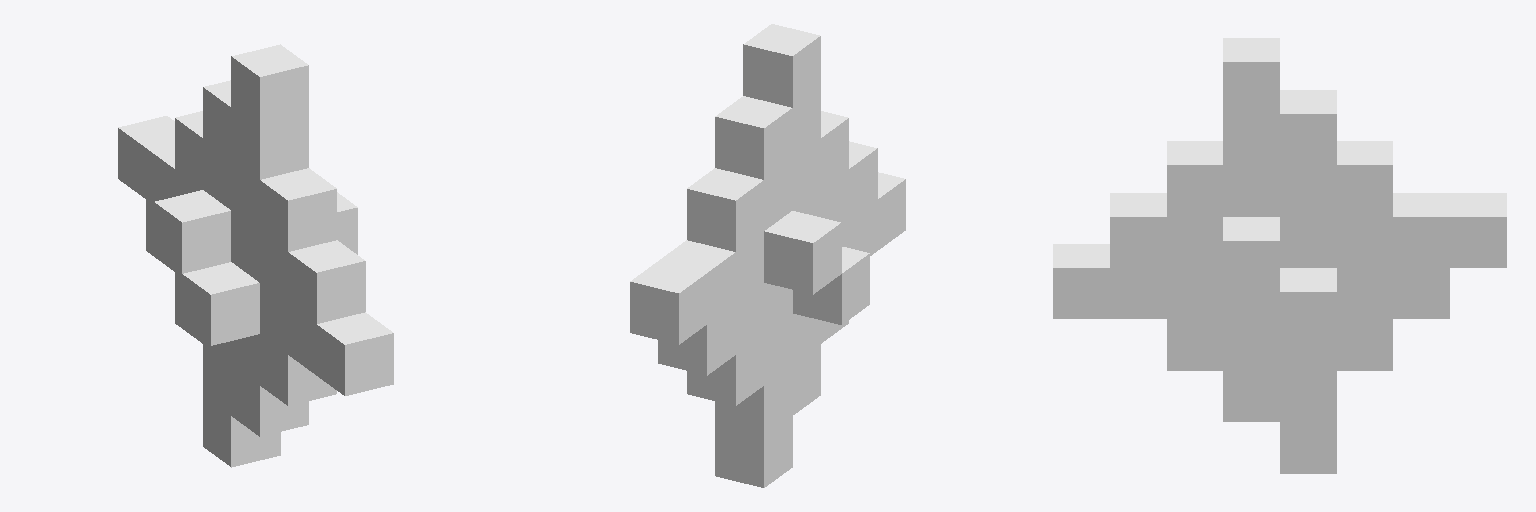
Rendered from Whitestar.obj.
The picture shows the model from 3 angles: view 1: azimuth 30°, elevation 25°; view 2: azimuth 150°, elevation 25°; view 3: azimuth 270°, elevation 25°; orthographic projection.
Visible parts, largest first — view 1: object 1; view 2: object 1; view 3: object 1.
Part boxes in pixels (x1,y1,x2,y2): object 1: (118, 44, 393, 467); object 1: (630, 24, 905, 487); object 1: (1053, 38, 1506, 473).
Bounding box in the file's own units: 0.3 × 0.8 × 0.8.